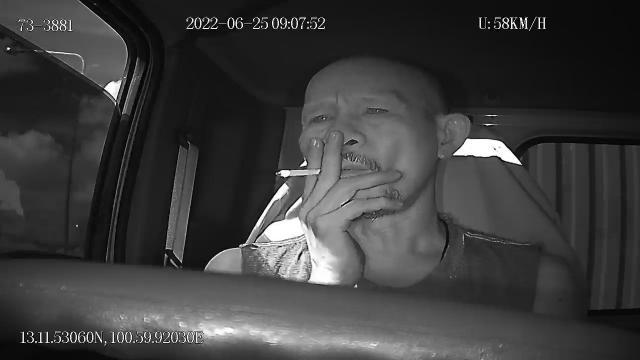SafeDriving: (357, 96, 398, 125), (302, 103, 341, 132)
Smoking: (276, 168, 322, 178)
